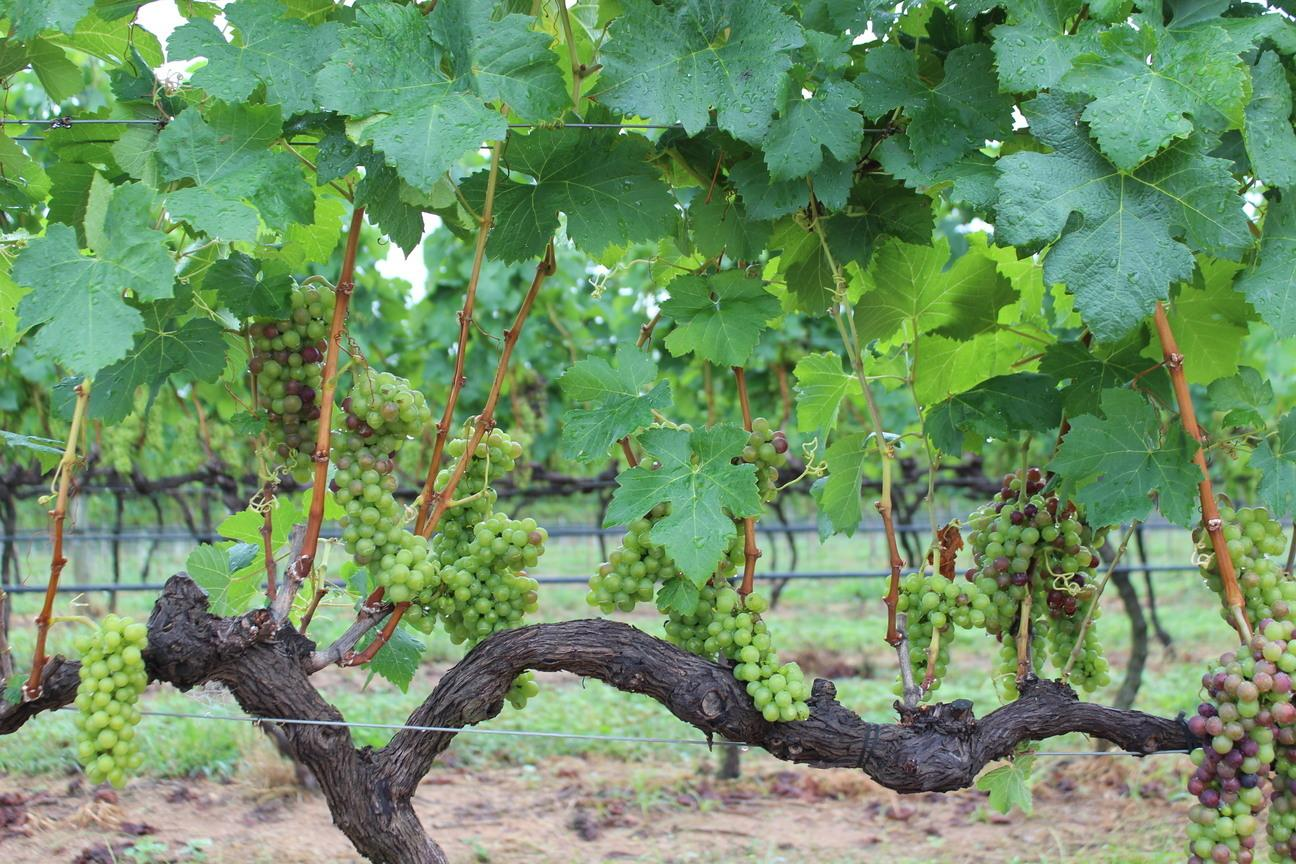leaf: (997, 94, 1250, 340), (327, 0, 577, 196), (12, 183, 173, 372), (591, 0, 803, 141), (1061, 25, 1246, 170), (486, 129, 677, 260), (604, 423, 759, 584), (157, 102, 311, 241), (1048, 388, 1200, 522), (854, 44, 1010, 170), (170, 0, 338, 113), (560, 345, 670, 460), (660, 270, 779, 364), (924, 372, 1060, 453), (764, 82, 861, 179), (1235, 194, 1295, 337), (1242, 52, 1295, 186), (811, 433, 872, 534), (1248, 410, 1295, 517), (793, 352, 857, 430), (1208, 365, 1271, 426), (463, 171, 486, 206), (792, 170, 807, 174)
